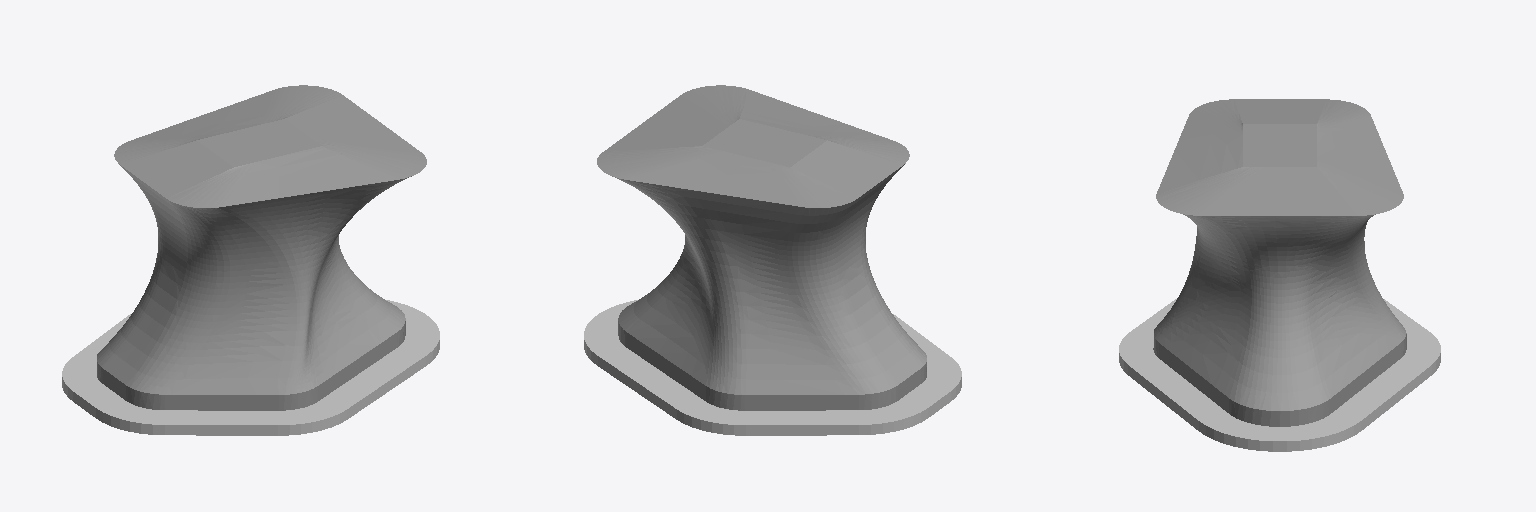
File: Soumaya.obj
3 views of the same model, side by side, from view 1: azimuth 30°, elevation 25°; view 2: azimuth 150°, elevation 25°; view 3: azimuth 270°, elevation 25° (orthographic).
Visible parts, largest first — view 1: Soumaya; view 2: Soumaya; view 3: Soumaya.
Part boxes in pixels (bbox=[...]): Soumaya: bbox=[62, 85, 439, 435]; Soumaya: bbox=[584, 85, 961, 435]; Soumaya: bbox=[1119, 99, 1440, 451].
Size of the model in its own units: 34.48 by 21.5 by 27.99.